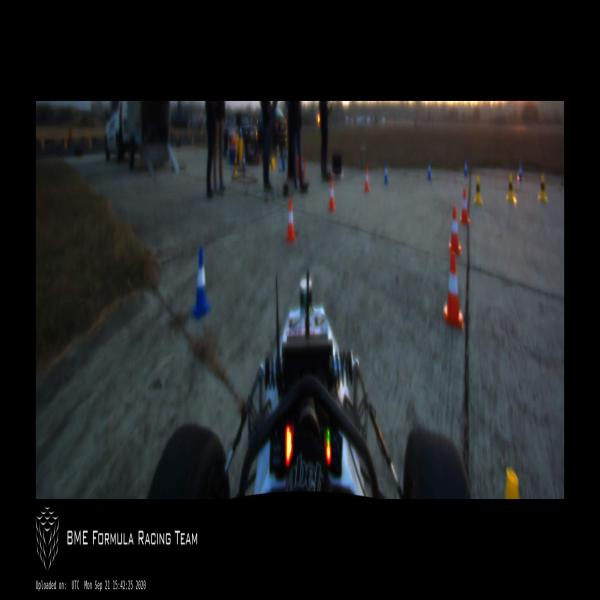blue_cone: (192, 246, 210, 316), (383, 161, 388, 184), (427, 160, 432, 180), (463, 159, 468, 179), (518, 164, 522, 182), (242, 154, 245, 169), (239, 124, 242, 138)
orange_cone: (442, 249, 462, 325), (448, 206, 461, 252), (284, 200, 296, 242), (461, 189, 470, 223), (327, 179, 335, 210), (363, 166, 370, 192)
yellow_cone: (504, 468, 520, 499), (474, 176, 483, 205), (538, 174, 547, 201), (507, 174, 515, 202), (234, 159, 238, 176), (236, 125, 238, 139)
